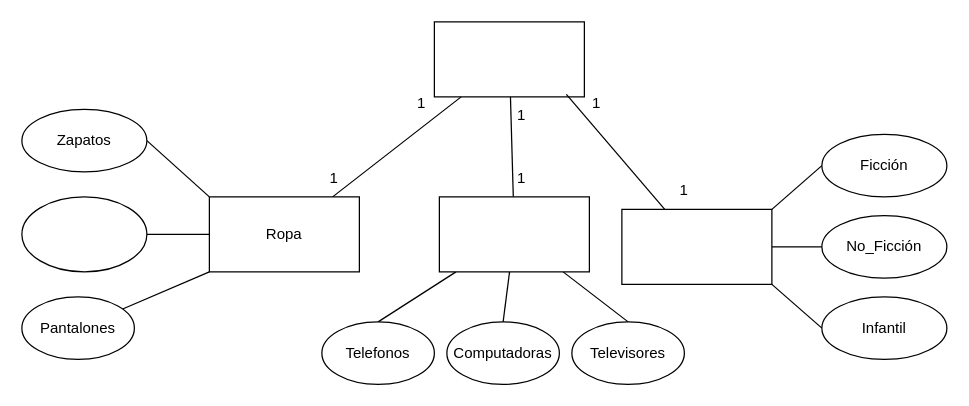
Image size: 969x406. Some labels were removed from this diagram. The box of each missing label's shape, as (x1, y1, x2, y2) in pixels:
Camisas: (21, 196, 147, 272)
Electrónicos: (438, 196, 589, 272)
Libros: (621, 208, 772, 284)
Producto: (433, 21, 584, 97)
